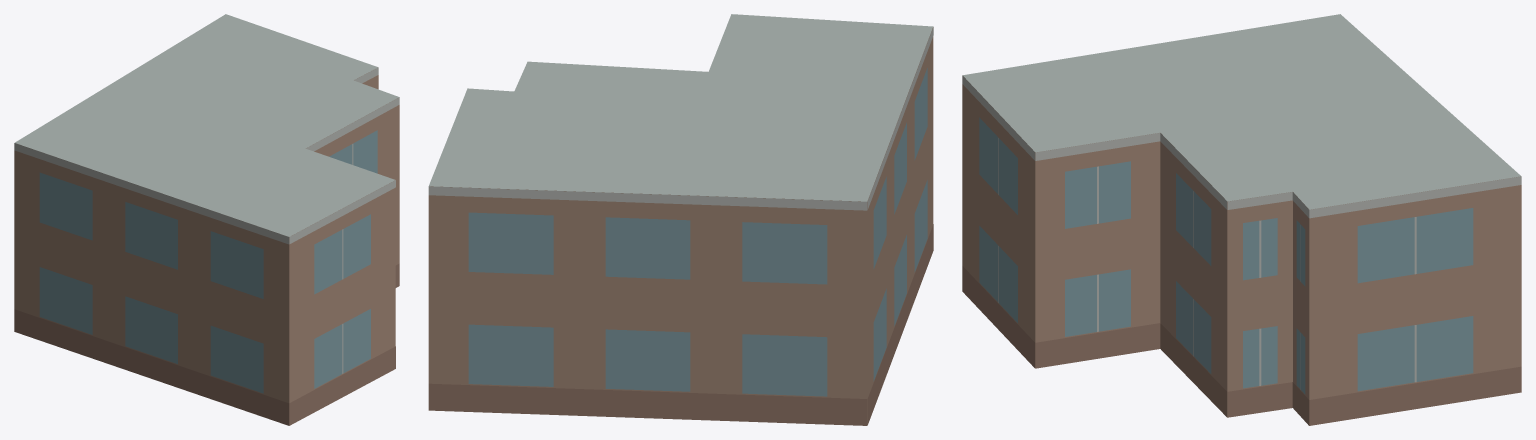
Rendered from survey-upis-32617336.glb.
3 renders of one model, left to right at view 1: azimuth 30°, elevation 25°; view 2: azimuth 150°, elevation 25°; view 3: azimuth 270°, elevation 25°, orthographic. The views are drawn at different scales.
Visible parts, largest first — view 1: survey-upis-32617336.tmp; view 2: survey-upis-32617336.tmp; view 3: survey-upis-32617336.tmp.
Part boxes in pixels (box(x1,y1,x2,y2)): survey-upis-32617336.tmp: box(14, 14, 399, 425); survey-upis-32617336.tmp: box(428, 14, 933, 425); survey-upis-32617336.tmp: box(962, 14, 1521, 425).
Bounding box in the file's own units: 11.86 × 6.1 × 14.31.
